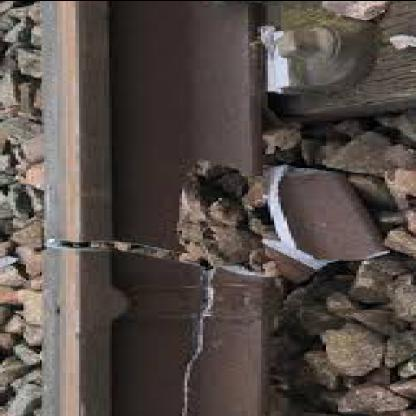Defective 2: (21, 180, 309, 332)
